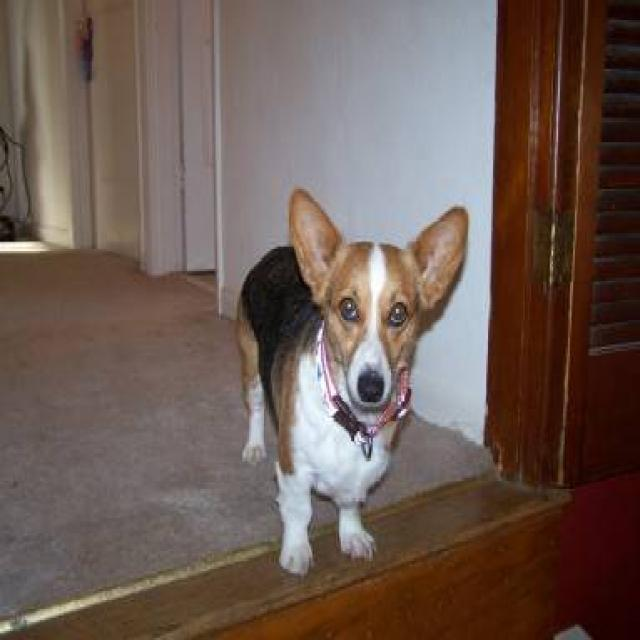adult_dog: (235, 187, 472, 577)
